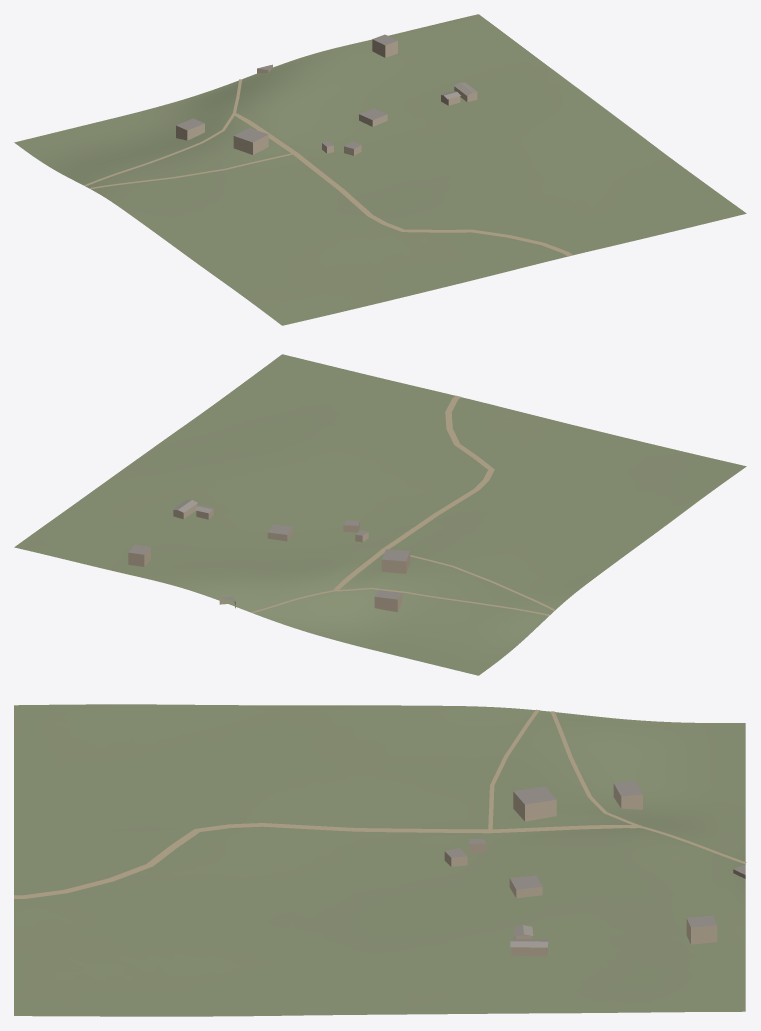
3 views of the same model, one above another, from view 1: azimuth 30°, elevation 25°; view 2: azimuth 150°, elevation 25°; view 3: azimuth 270°, elevation 25° (orthographic). The views are drawn at different scales.
Visible parts, largest first — view 1: ground, path, walls, roofs; view 2: ground, path, walls, roofs; view 3: ground, path, walls, roofs, sheetRoofs.
Boxes of the visible parts, left/top/right/bottom form: ground: left=14, top=14, right=746, bottom=325; path: left=84, top=79, right=572, bottom=256; walls: left=176, top=39, right=477, bottom=155; roofs: left=176, top=34, right=397, bottom=148; ground: left=14, top=354, right=746, bottom=675; path: left=251, top=395, right=555, bottom=615; walls: left=128, top=504, right=410, bottom=611; roofs: left=128, top=520, right=409, bottom=601; ground: left=14, top=704, right=745, bottom=1016; path: left=14, top=709, right=746, bottom=898; walls: left=444, top=783, right=745, bottom=956; roofs: left=445, top=780, right=745, bottom=927; sheetRoofs: left=510, top=925, right=548, bottom=947.
Size of the model in its own units: 250 by 14.23 by 250.
